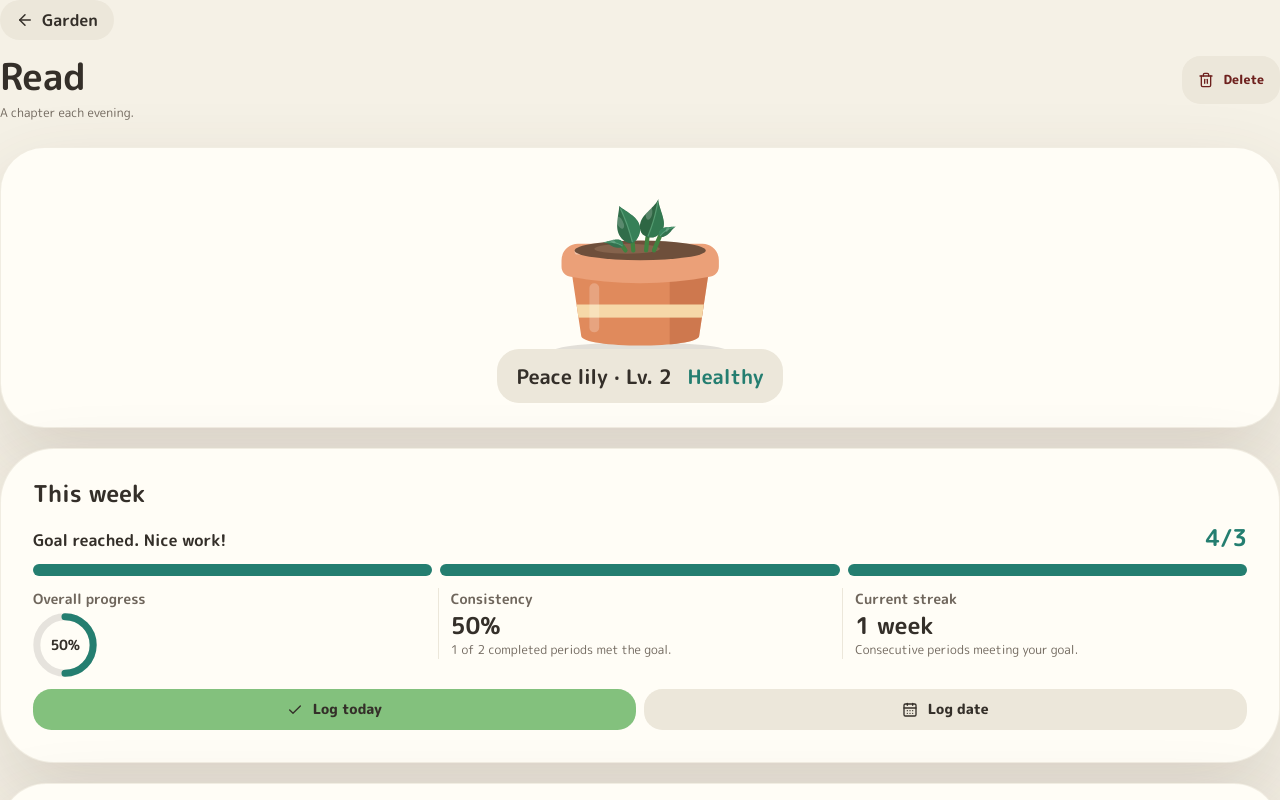
the cards at the top › logs another day from the Log date dialog
Check: the heading "Read" is shown, box [0,50,86,102]
Click the button "Log date" at (946, 710), box [644,689,1247,730]
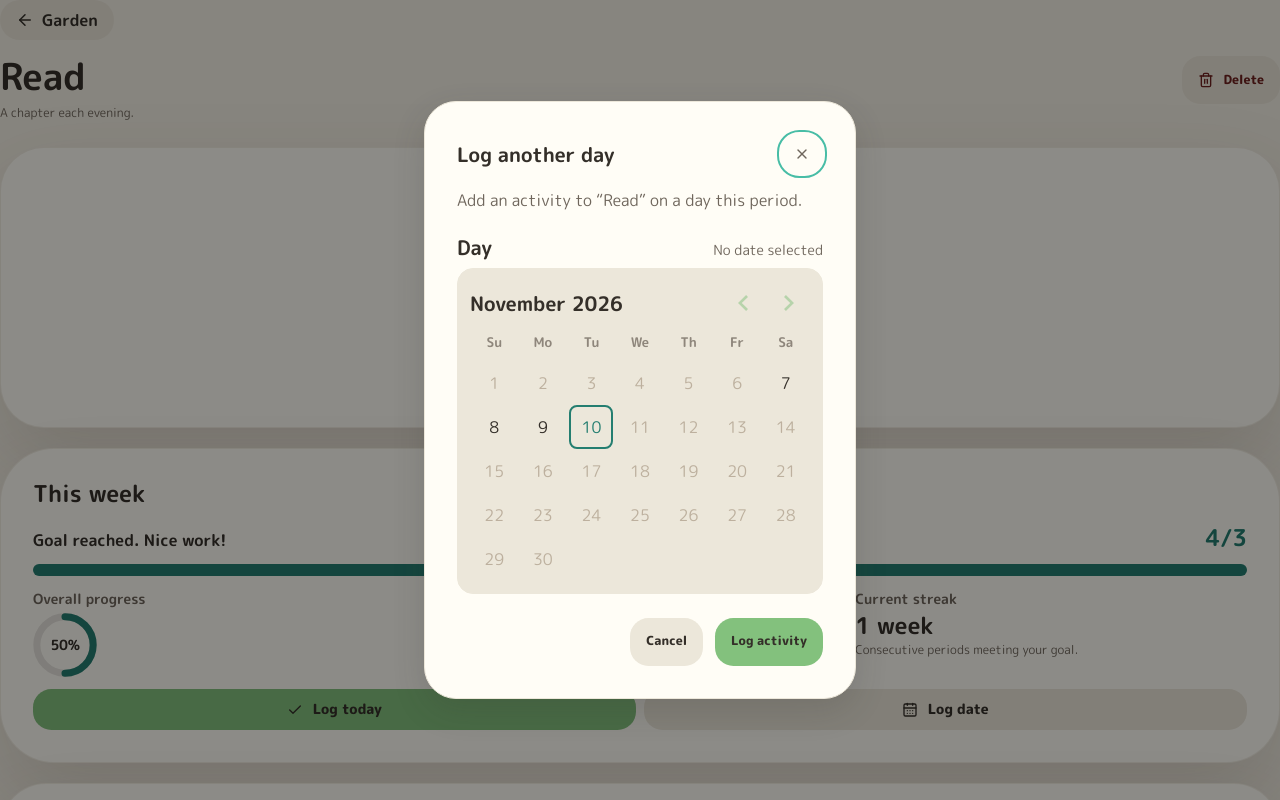
Click the button "9" at (543, 427), box [521,405,565,449]
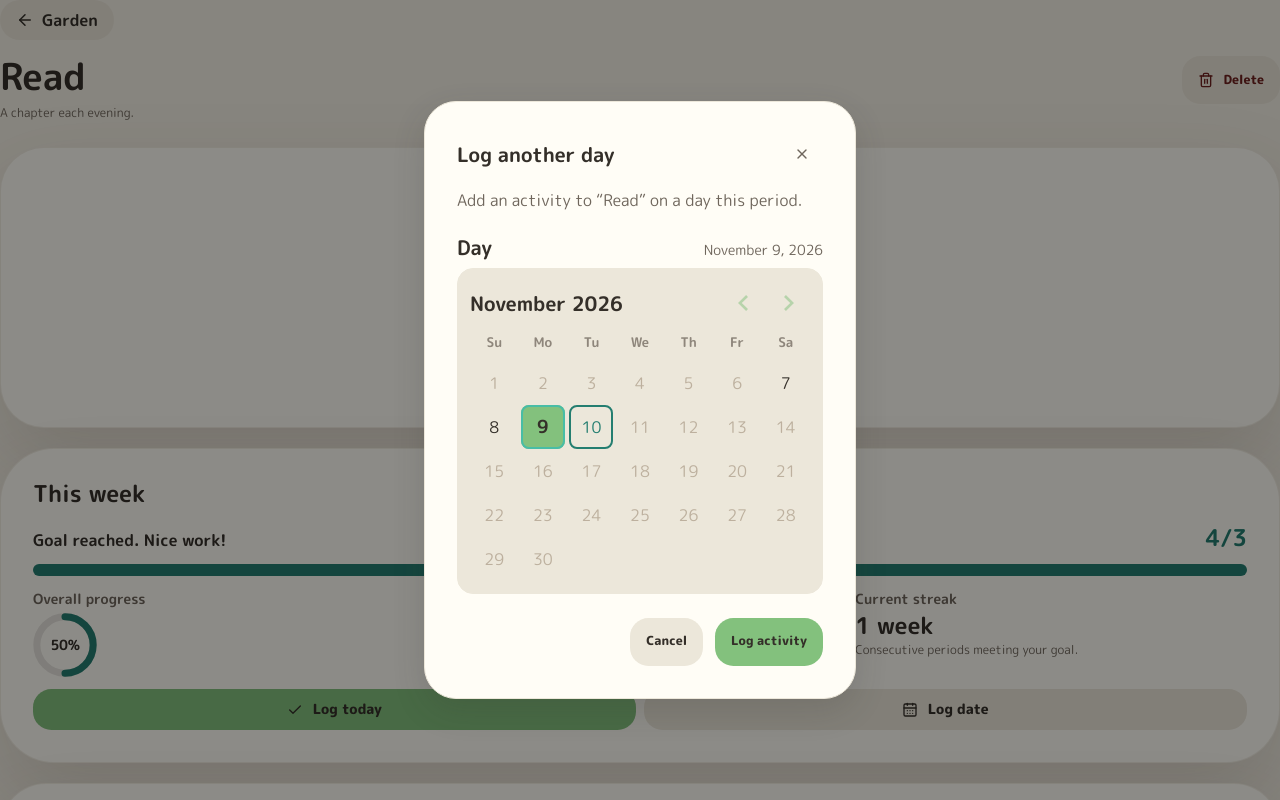
Click the button "Log activity" at (769, 642), box [715,618,823,666]
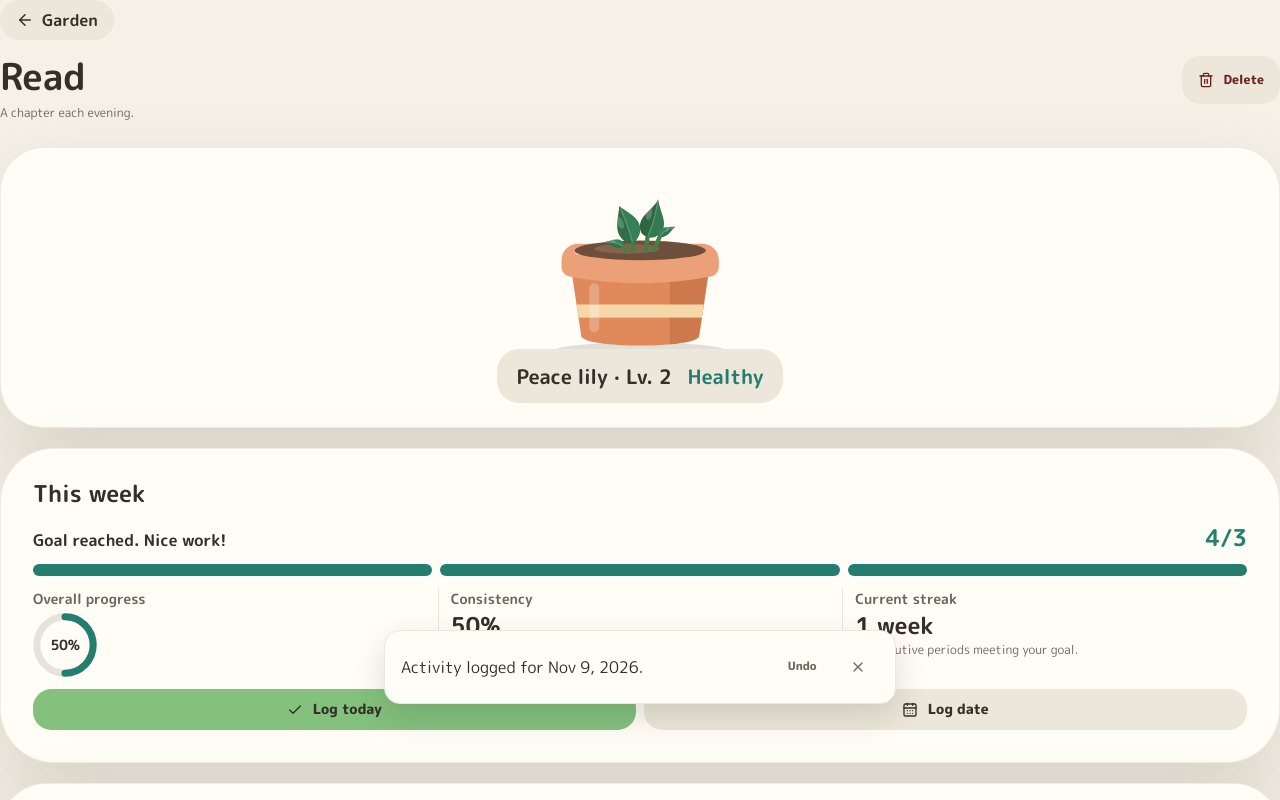
Check: the text "Activity logged for Nov 9, 2026." is shown, box [401,656,643,678]
